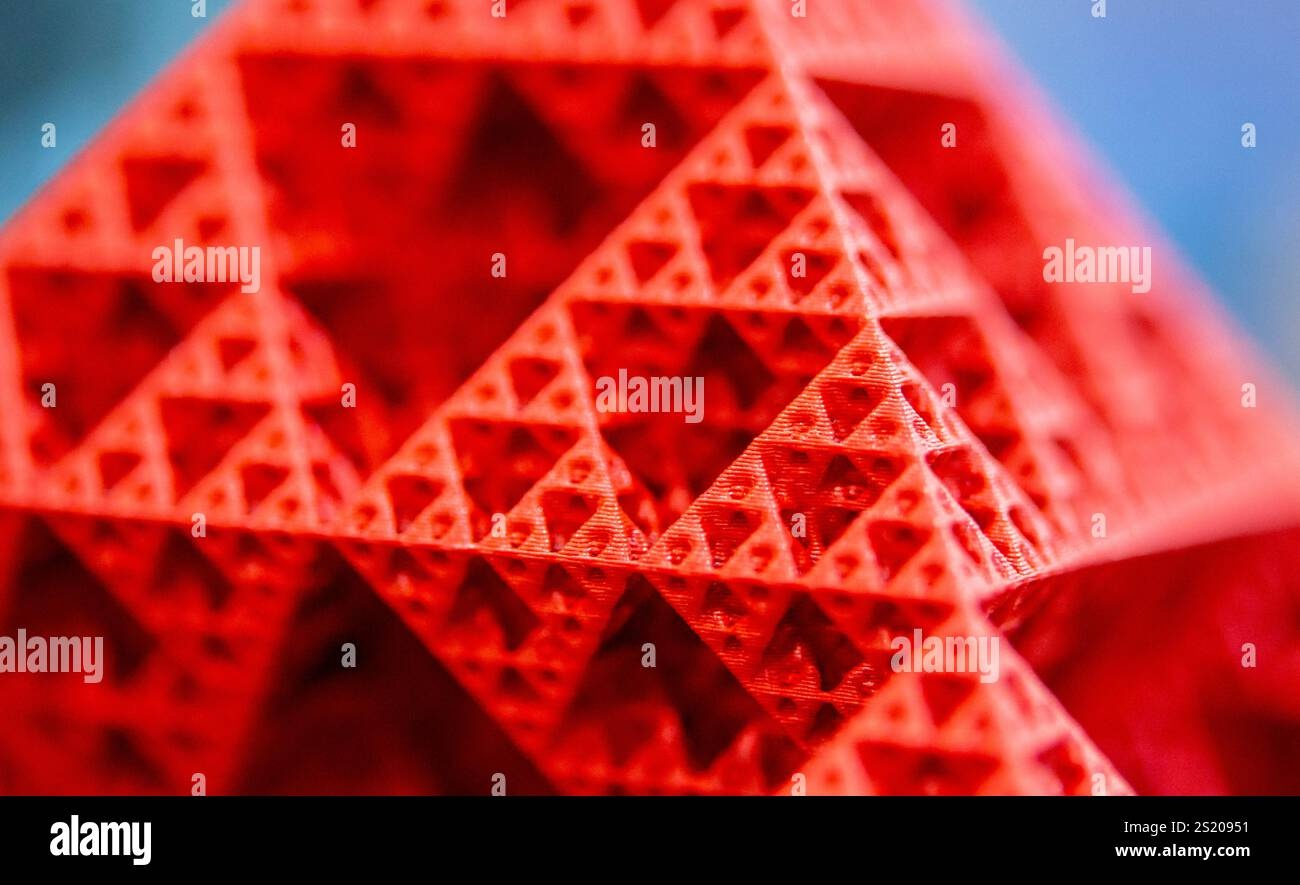3d print: (0, 0, 1299, 794)
